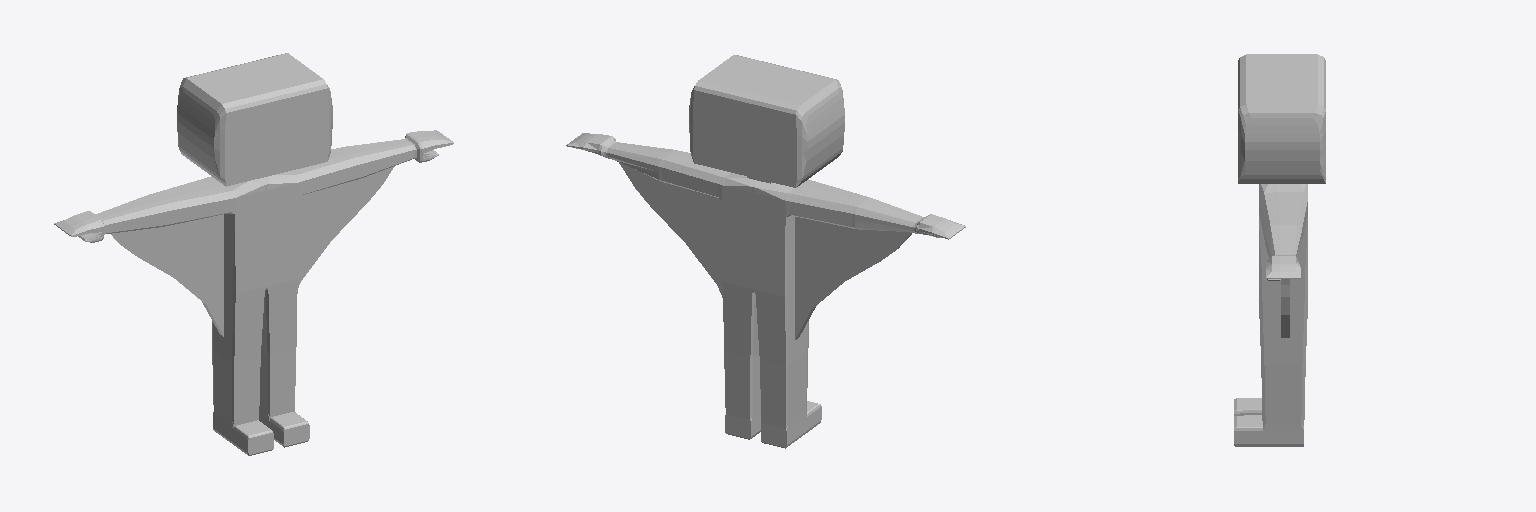
The model's file is CharacterWingSuit.obj.
The picture shows the model from 3 angles: view 1: azimuth 30°, elevation 25°; view 2: azimuth 150°, elevation 25°; view 3: azimuth 270°, elevation 25°; orthographic projection.
Bounding box in the file's own units: 1.96 × 1.73 × 0.4085.